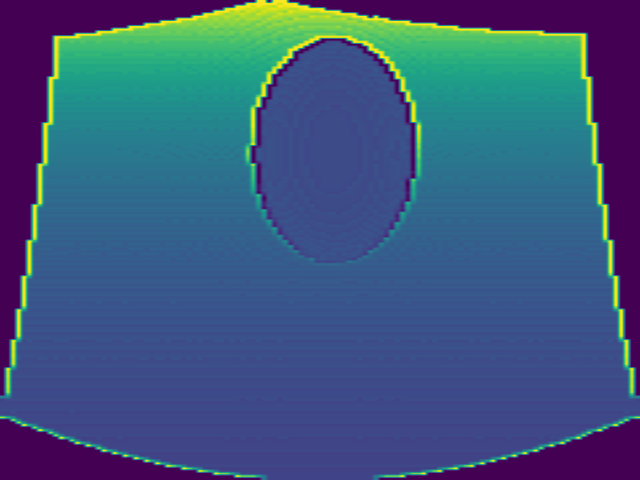sphere: (247, 36, 417, 264)
